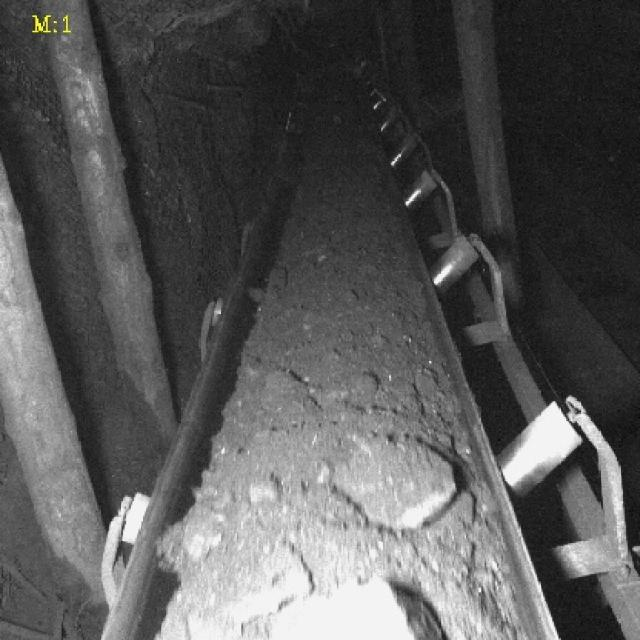large_sized_coal: (271, 578, 443, 640), (343, 439, 454, 526)
